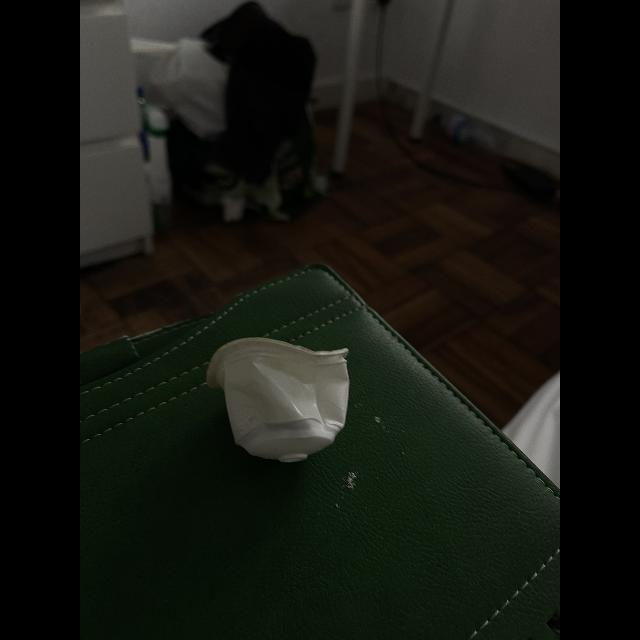damaged_capsule: (197, 332, 365, 476)
